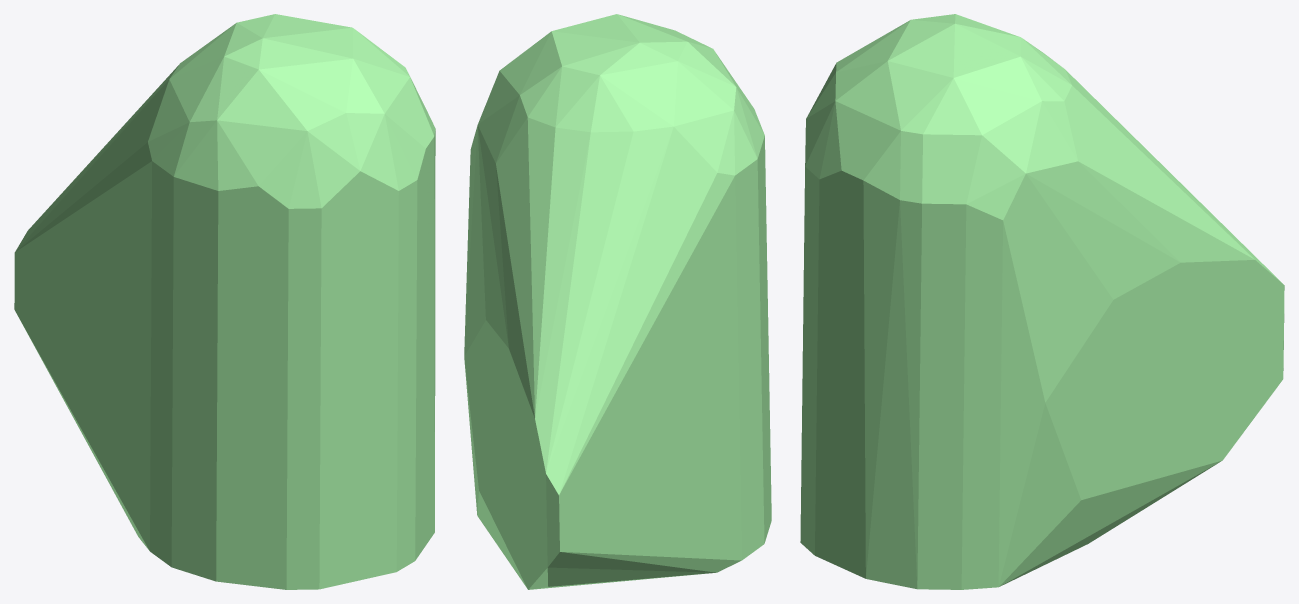
The model's file is dvkr_robot_C_link3_respondable_coll_2.dae.
The picture shows the model from 3 angles, left to right: view 1: azimuth 30°, elevation 25°; view 2: azimuth 150°, elevation 25°; view 3: azimuth 270°, elevation 25°; orthographic projection.
Visible parts, largest first — view 1: Node_0000023514CD72A0; view 2: Node_0000023514CD72A0; view 3: Node_0000023514CD72A0.
Part boxes in pixels (<box>): Node_0000023514CD72A0: <box>14,14,435,589</box>; Node_0000023514CD72A0: <box>464,14,771,589</box>; Node_0000023514CD72A0: <box>800,14,1284,589</box>.
Size of the model in its own units: 0.1301 by 0.2358 by 0.2092.
